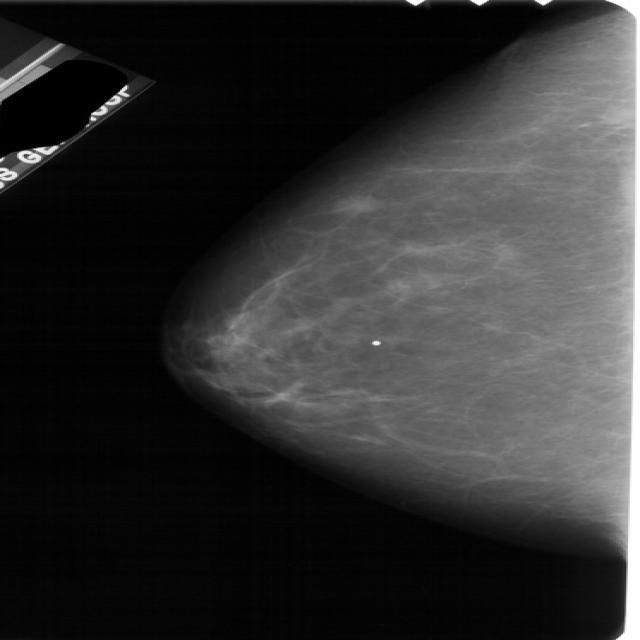tumour: (331, 194, 379, 212)
